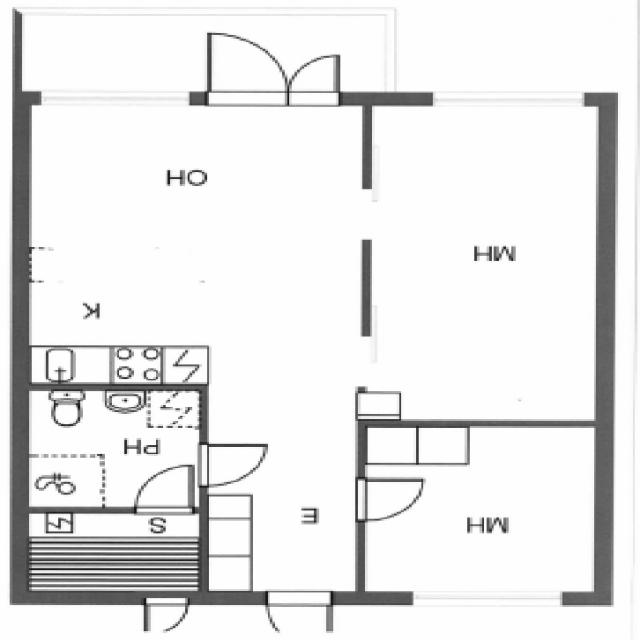door: (208, 34, 287, 104), (200, 445, 265, 485), (136, 467, 193, 512), (357, 479, 421, 519), (288, 55, 338, 104)
